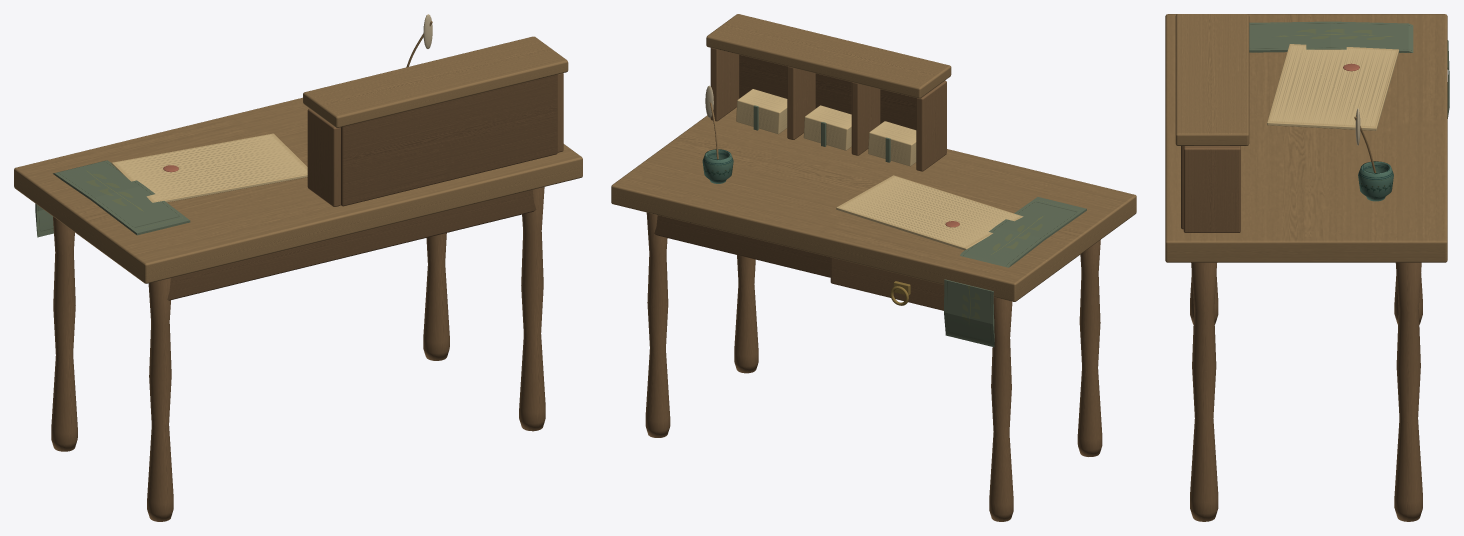
File: escritorio.glb
3 views of the same model, side by side, from view 1: azimuth 30°, elevation 25°; view 2: azimuth 150°, elevation 25°; view 3: azimuth 270°, elevation 25° (orthographic). The views are drawn at different scales.
Parts seen in each view (by area): view 1: escritorio; view 2: escritorio; view 3: escritorio.
Part boxes in pixels (box(x1,y1,x2,y2)): escritorio: box(14, 14, 582, 521); escritorio: box(611, 14, 1136, 521); escritorio: box(1165, 14, 1449, 521).
Bounding box in the file's own units: 1.32 × 1.07 × 0.695.
Materials: 1 (1 with a texture image).
